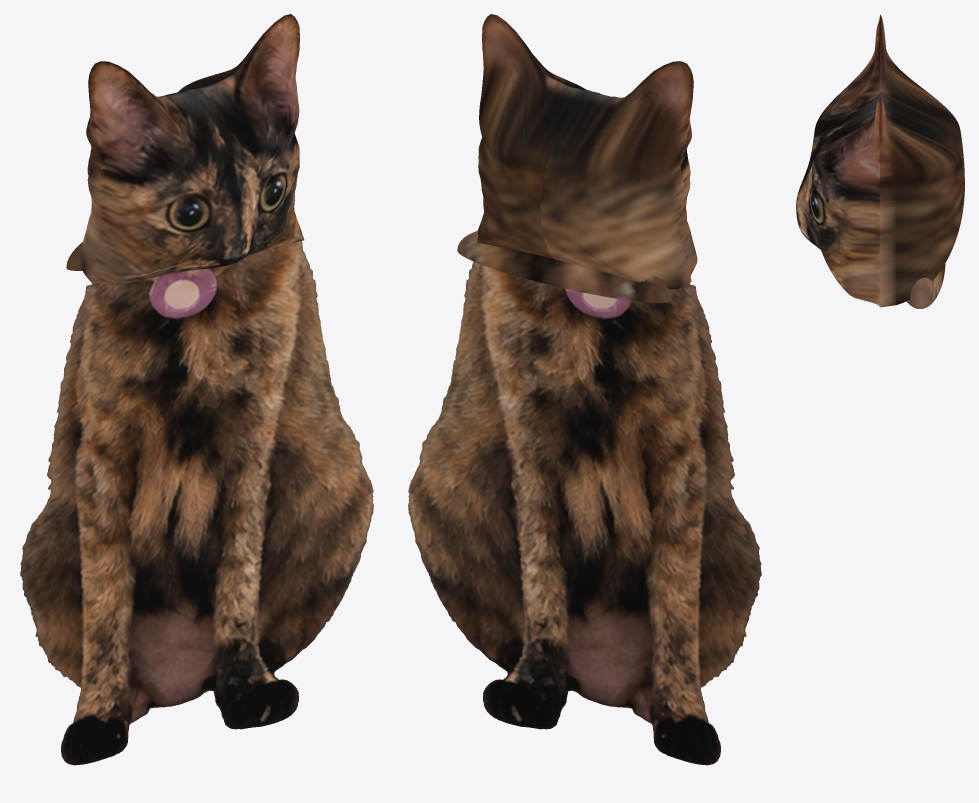
Rendered from hana-fixed-body.glb.
3 views of the same model, side by side, from view 1: azimuth 30°, elevation 25°; view 2: azimuth 150°, elevation 25°; view 3: azimuth 270°, elevation 25° (orthographic). The views are drawn at different scales.
Visible parts, largest first — view 1: BodyAnchor, HanaHeadSurface; view 2: BodyAnchor, HanaHeadSurface, FixedNape; view 3: HanaHeadSurface, FixedNape.
Boxes of the visible parts, x1,y1,x2,y2 form: BodyAnchor: (20,241,373,765); HanaHeadSurface: (80,14,304,285); BodyAnchor: (408,262,761,765); HanaHeadSurface: (477,14,697,289); FixedNape: (457,231,671,302); HanaHeadSurface: (796,14,964,307); FixedNape: (906,264,945,308).
Size of the model in its own units: 3.35 by 6.25 by 1.47.
4 materials, 2 textured.
